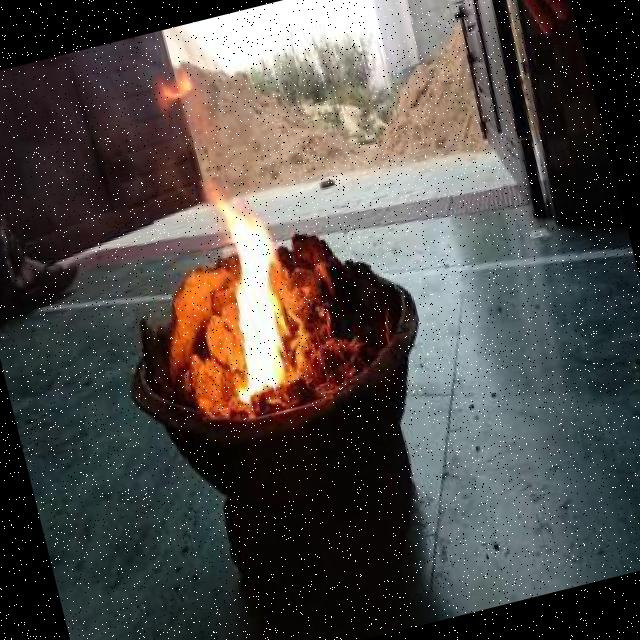fire: (146, 162, 338, 452)
